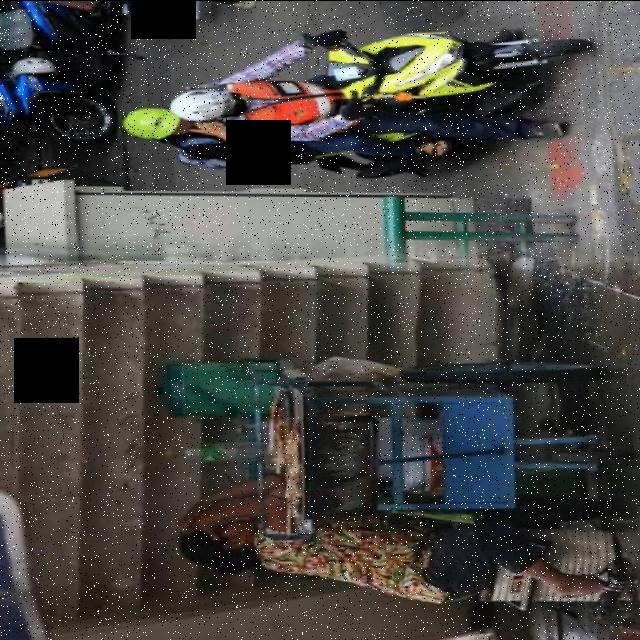food-booth: (146, 355, 606, 531)
